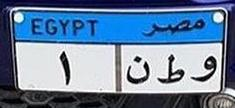1: (57, 50, 72, 84)
Taa: (157, 56, 187, 84)
noon: (125, 53, 152, 87)
waw: (190, 53, 219, 87)
